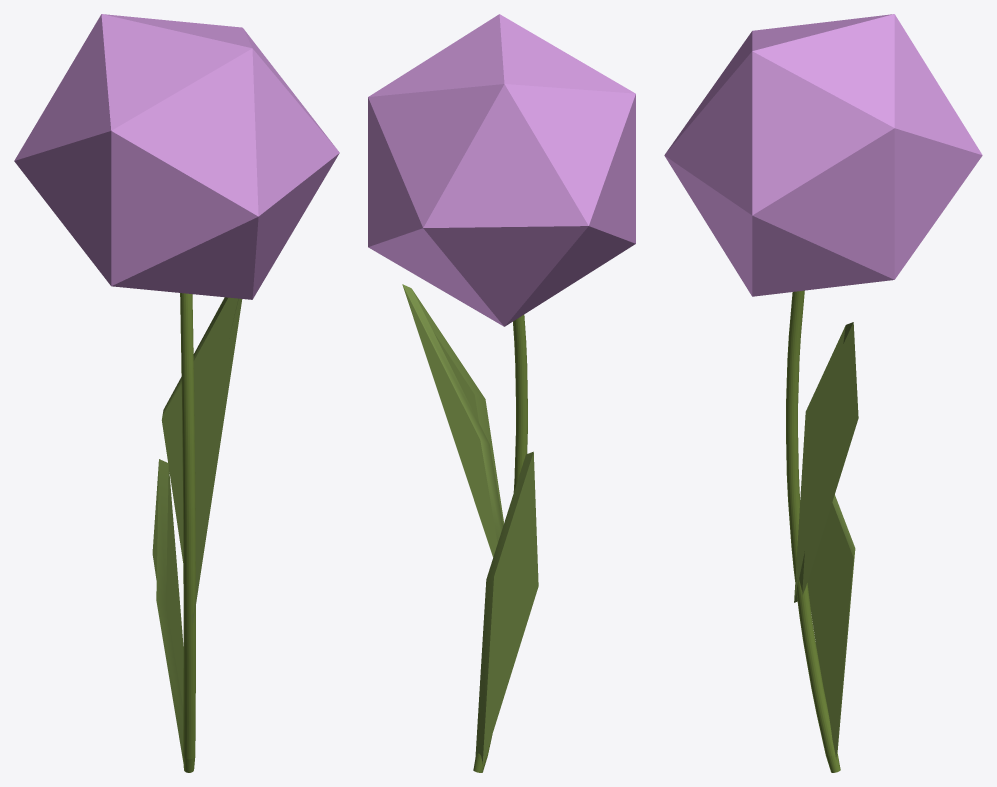
File: Plant5.fbx
The picture shows the model from 3 angles, left to right: view 1: azimuth 30°, elevation 25°; view 2: azimuth 150°, elevation 25°; view 3: azimuth 270°, elevation 25°; orthographic projection. The views are drawn at different scales.
Parts seen in each view (by area): view 1: MPlant; view 2: MPlant; view 3: MPlant.
Boxes of the visible parts, <box> form: MPlant: <box>14,14,339,772</box>; MPlant: <box>368,14,635,772</box>; MPlant: <box>664,14,982,772</box>.
Size of the model in its own units: 0.5236 by 1.48 by 0.5854.
